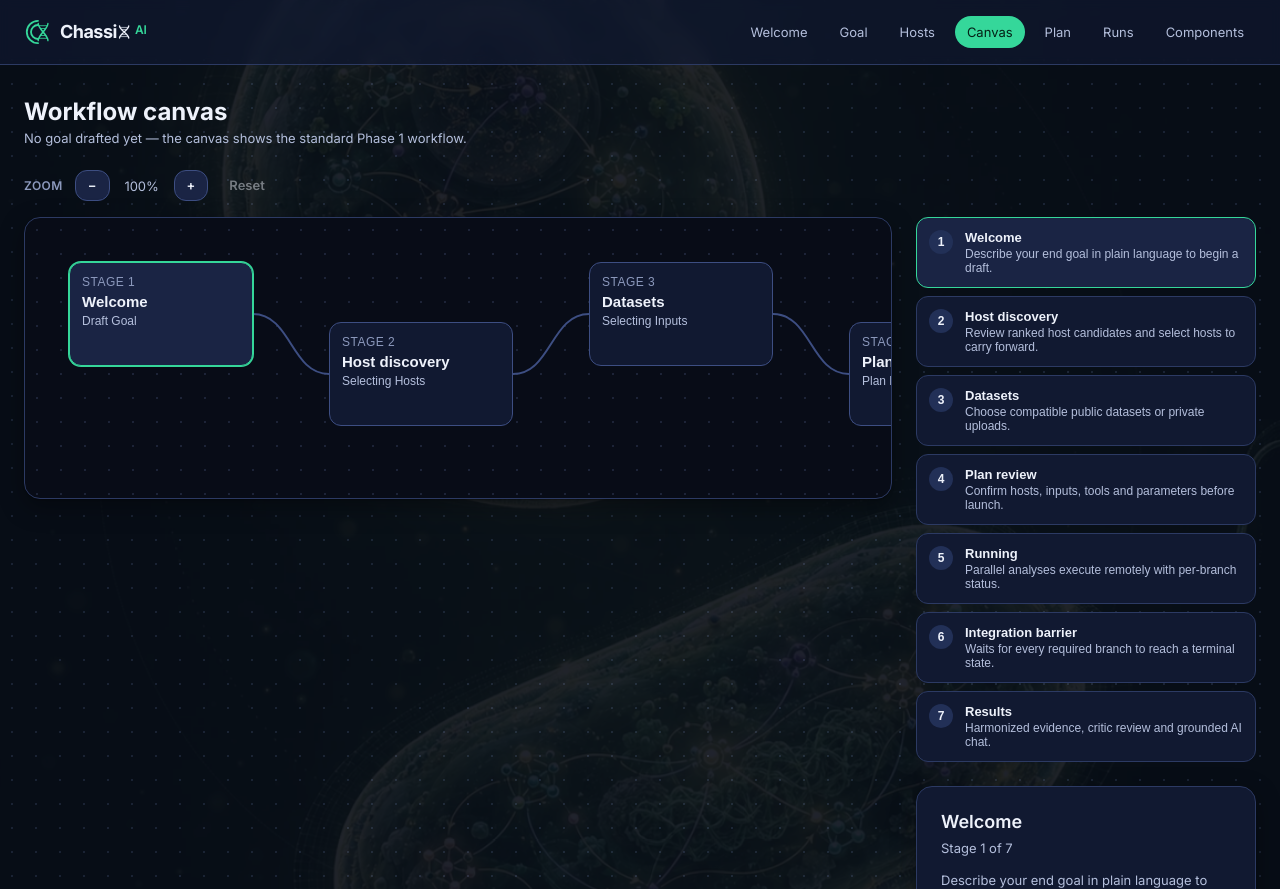
Test: CanvasPage (Screen 2, Phase 1 exit) › drives both views from one active-stage selection
The image size is (1280, 889).
Click the button "Host discovery" at [1086, 332], box [916,296,1256,367]
(page scrolled)
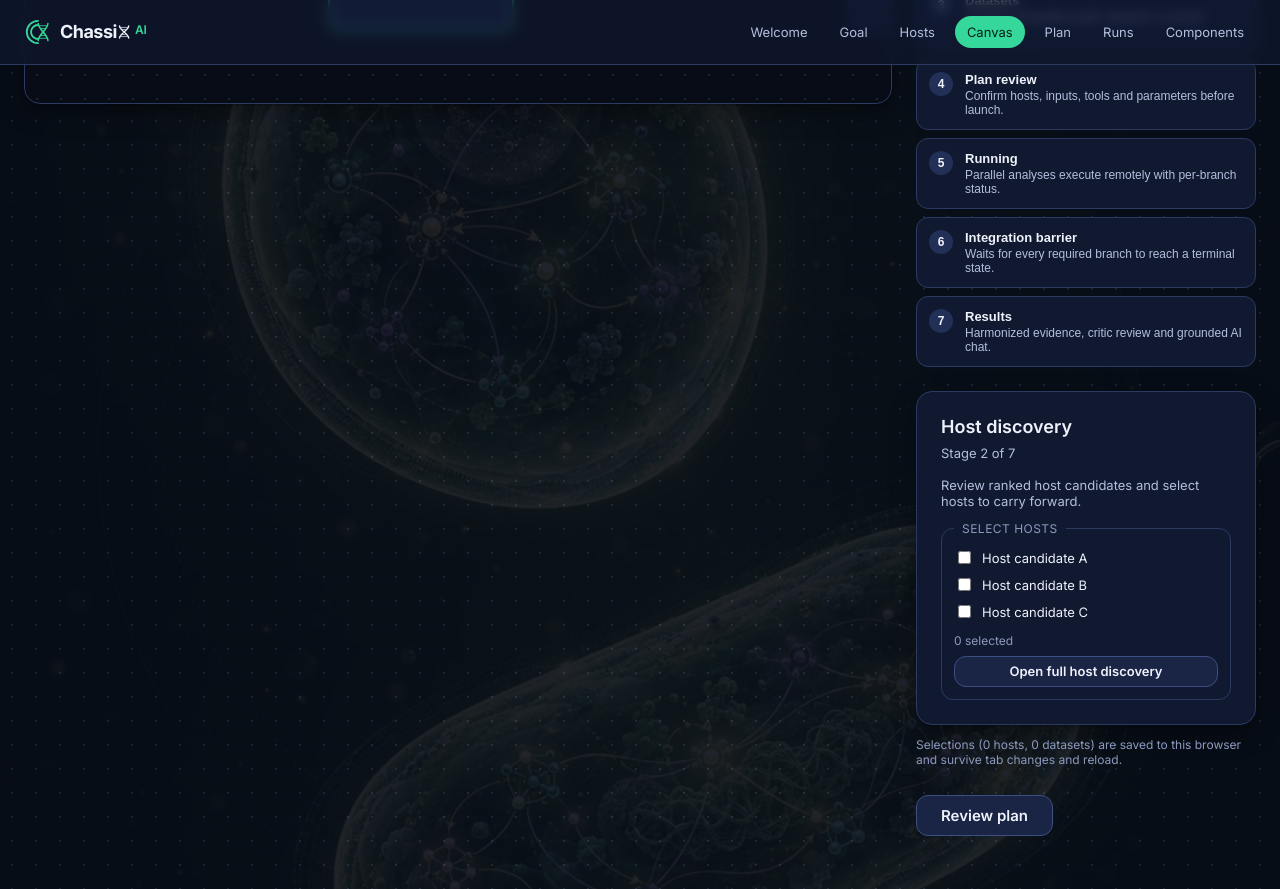
Check: the text "Select hosts" is shown, box [954,521,1066,536]
